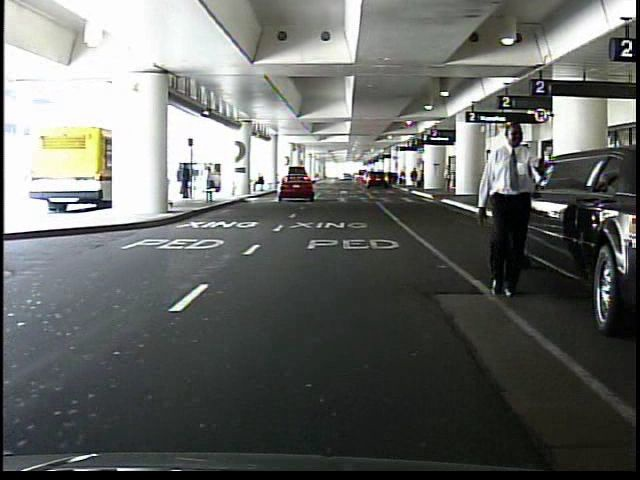person: (468, 119, 545, 297), (179, 160, 193, 200), (442, 166, 455, 193), (253, 171, 266, 194), (410, 167, 419, 190)
